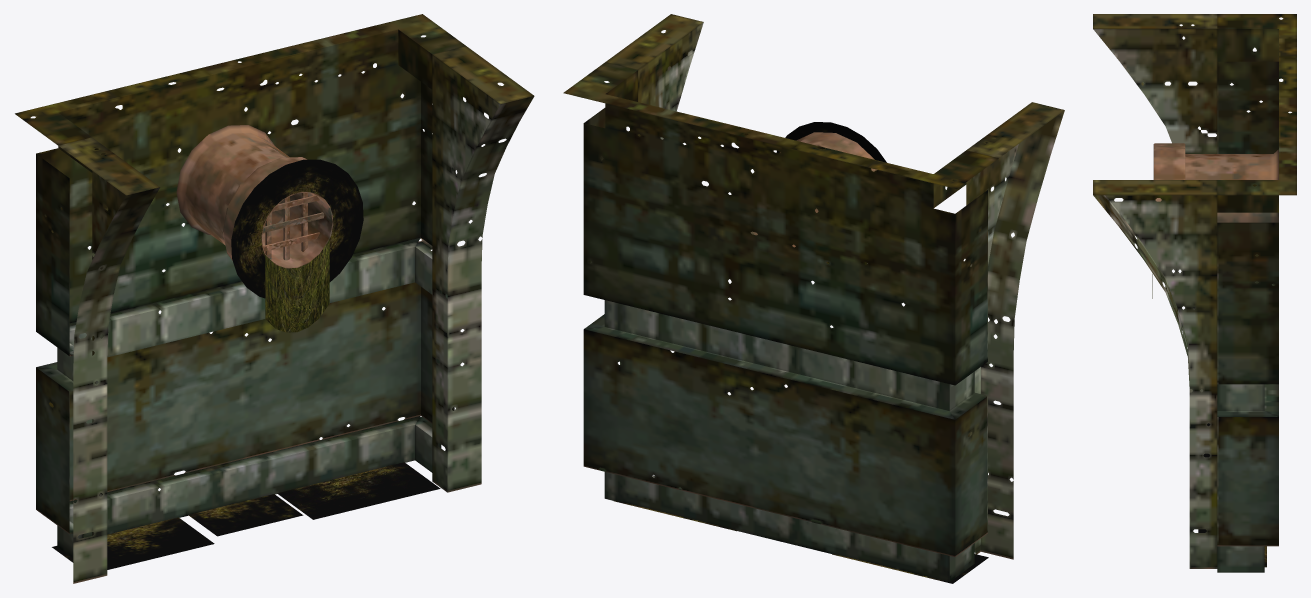
Rendered from sewerWallStraightB.fbx.
3 renders of one model, left to right at view 1: azimuth 30°, elevation 25°; view 2: azimuth 150°, elevation 25°; view 3: azimuth 270°, elevation 25°, orthographic. The views are drawn at different scales.
Parts seen in each view (by area): view 1: sewerWallStraightBQ, sewerPipeA, sewerWallStraightB, sewerPipeA_02, sewerPipeA_03; view 2: sewerWallStraightBQ, sewerPipeA_02, sewerPipeA, sewerWallStraightB; view 3: sewerWallStraightBQ, sewerPipeA.
Boxes of the visible parts, left/top/right/bottom form: sewerWallStraightBQ: left=15, top=14, right=534, bottom=583; sewerPipeA: left=176, top=125, right=333, bottom=268; sewerWallStraightB: left=52, top=462, right=440, bottom=569; sewerPipeA_02: left=231, top=159, right=363, bottom=298; sewerPipeA_03: left=265, top=239, right=329, bottom=332; sewerWallStraightBQ: left=563, top=14, right=1064, bottom=581; sewerPipeA_02: left=776, top=122, right=886, bottom=162; sewerPipeA: left=750, top=132, right=877, bottom=262; sewerWallStraightB: left=614, top=475, right=988, bottom=583; sewerWallStraightBQ: left=1093, top=14, right=1296, bottom=572; sewerPipeA: left=1153, top=143, right=1278, bottom=222.
Size of the model in its own units: 300 by 300 by 143.
3 materials, 3 textured.
